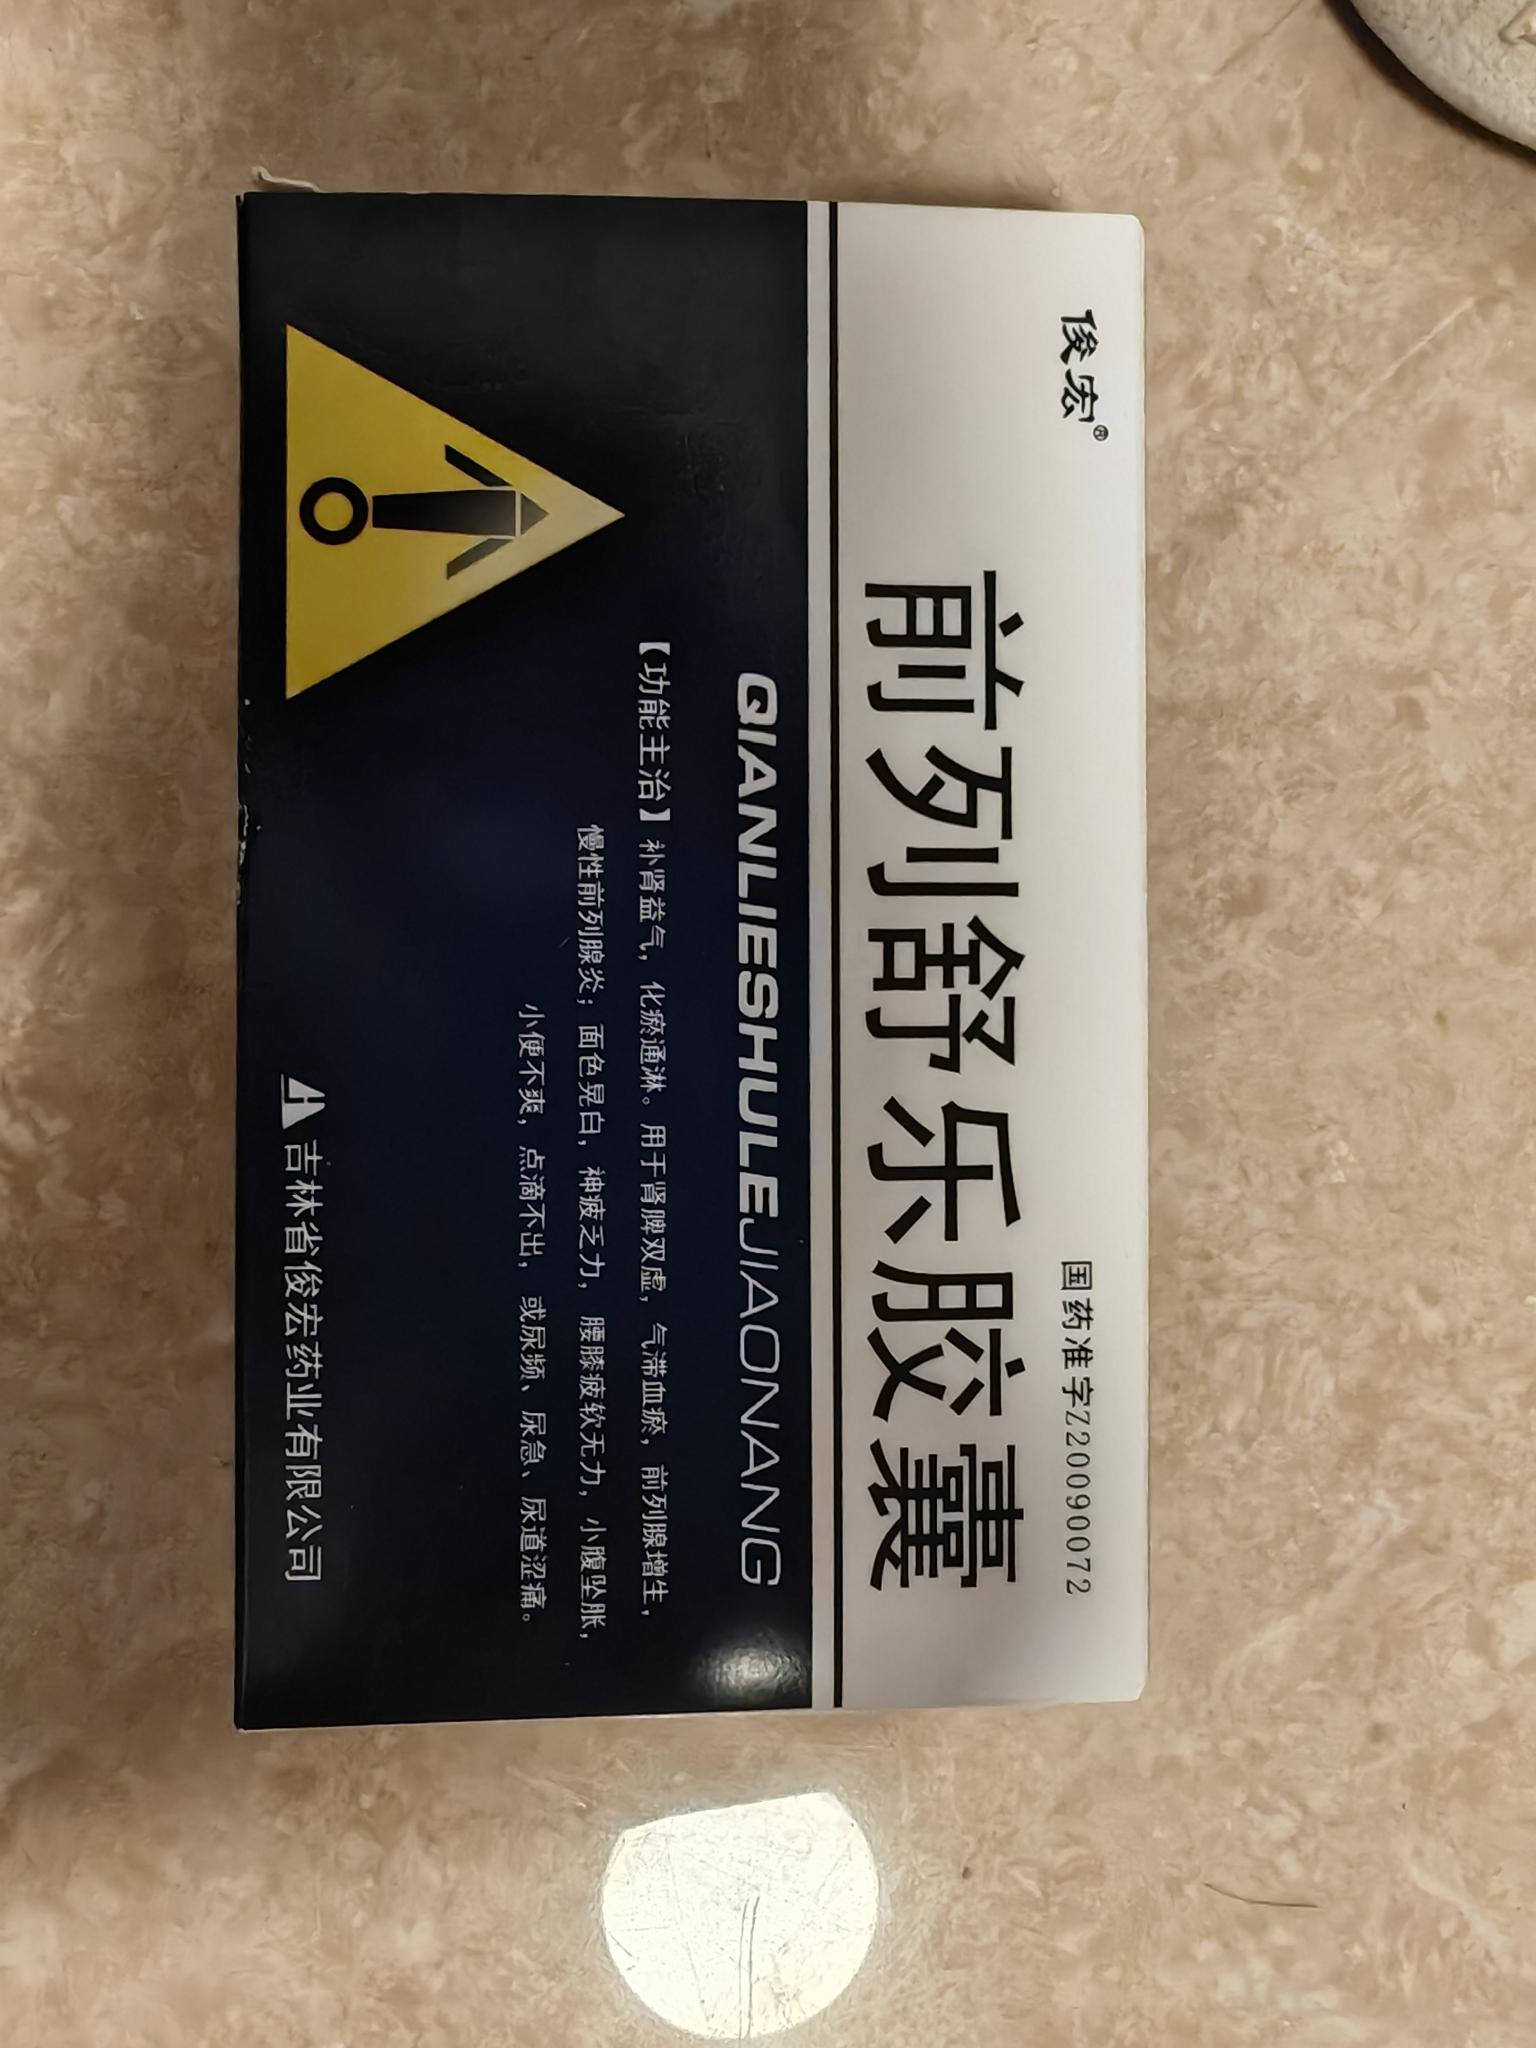Medicine2: (190, 160, 1179, 1751)
